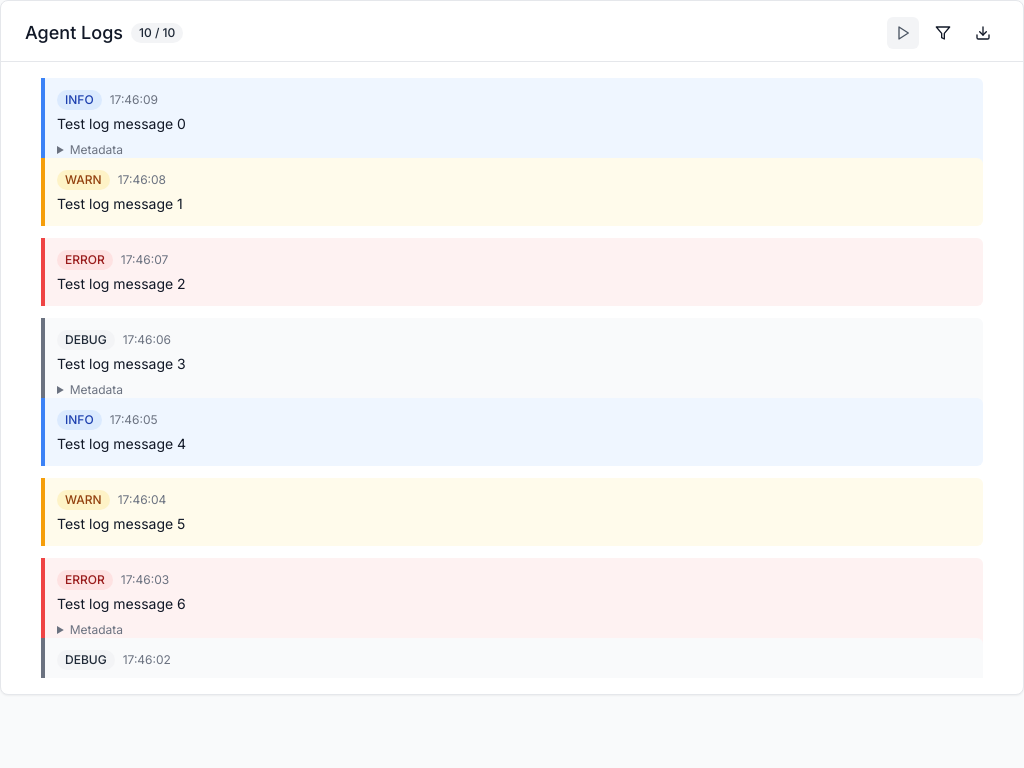
VirtualizedLogViewer - Performance Enhancement › Accessibility › should provide proper ARIA labels for filters
First click the filter toggle to show the filter inputs
What coordinates should you click on to do the following:
click the button named "Filter"
I would click on:
 (943, 33)
Its box is top-left (927, 17), bottom-right (959, 49).
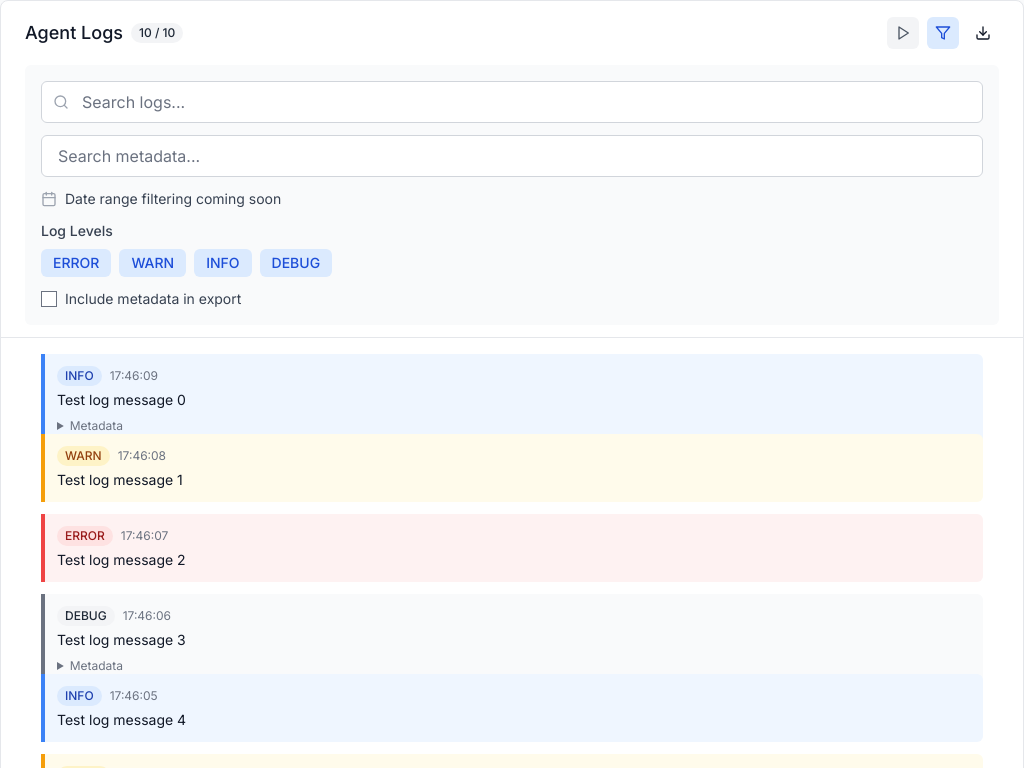
Now the field labelled "Search logs" is shown, box top-left (41, 81), bottom-right (983, 123)
Now the button with aria-label "Filter by error level" is shown, box top-left (41, 249), bottom-right (111, 277)
